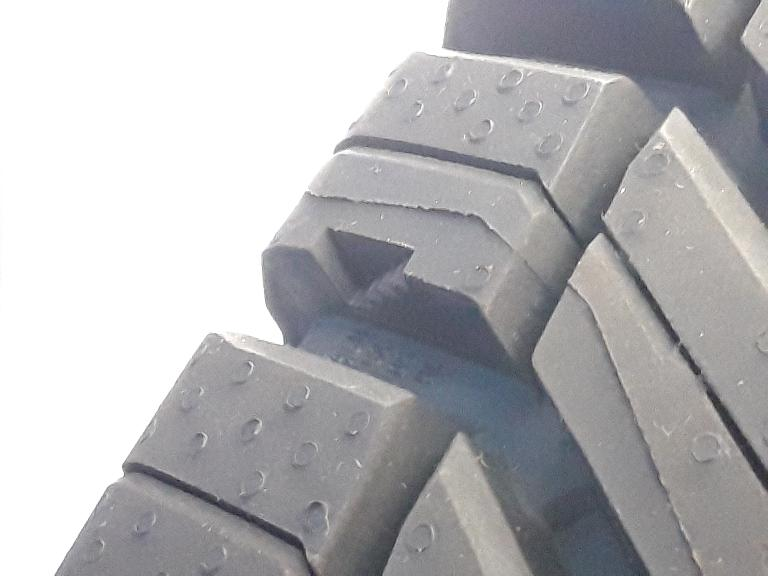temoin:100: (309, 226, 439, 349)
